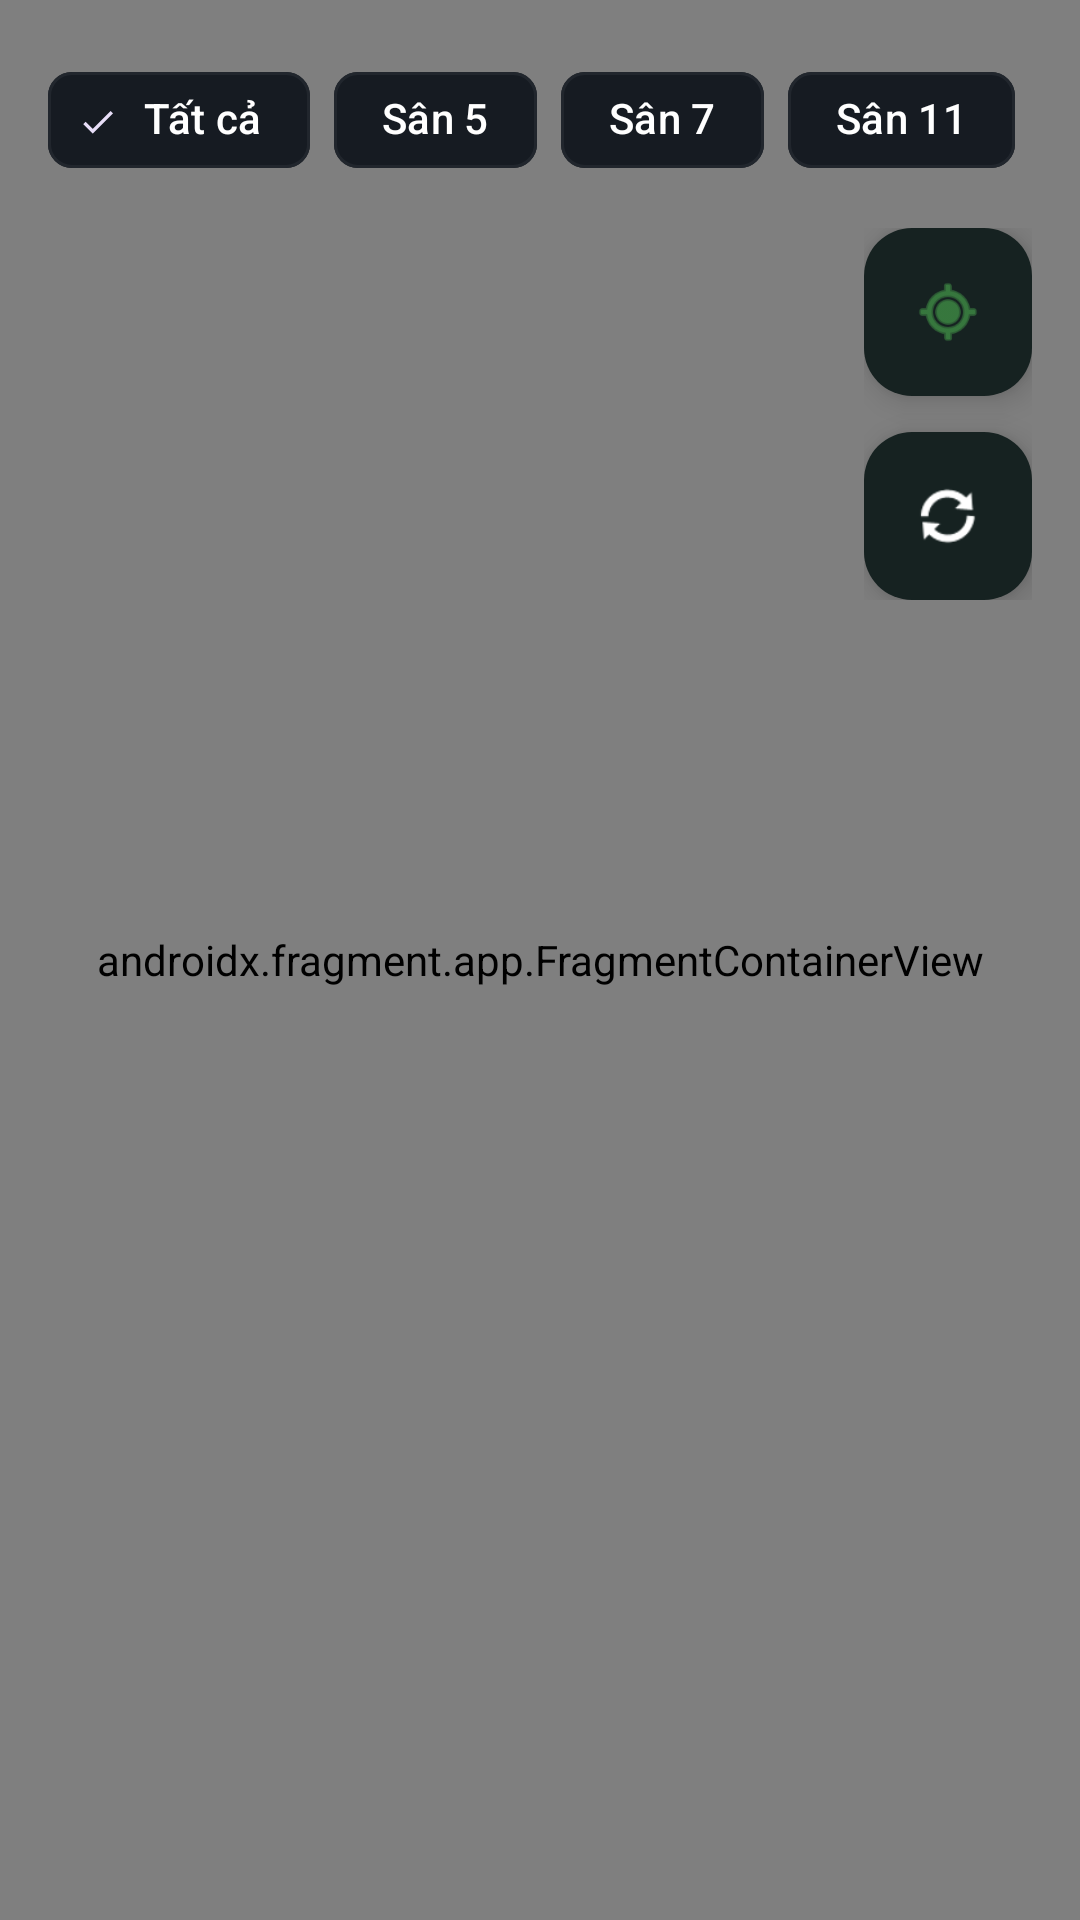

Named icons in this screenshot (1080×1920) and their centers, (x,y):
Làm mới: (948,516)
Vị trí của tôi: (948,312)
